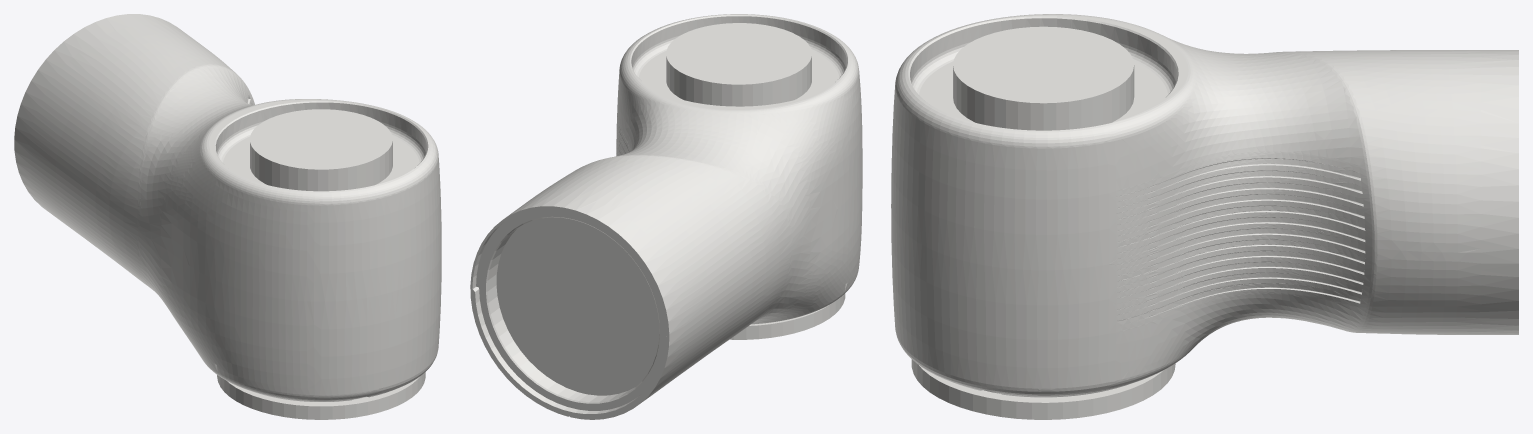
The model's file is AR5_5_08R_W4C4A6_link3_vis.obj.
3 views of the same model, side by side, from view 1: azimuth 30°, elevation 25°; view 2: azimuth 150°, elevation 25°; view 3: azimuth 270°, elevation 25° (orthographic). The views are drawn at different scales.
Parts seen in each view (by area): view 1: AR5_5_08R_W4C4A6_link3; view 2: AR5_5_08R_W4C4A6_link3; view 3: AR5_5_08R_W4C4A6_link3.
Part boxes in pixels (x1,y1,x2,y2): AR5_5_08R_W4C4A6_link3: (14,14,441,419); AR5_5_08R_W4C4A6_link3: (470,14,862,419); AR5_5_08R_W4C4A6_link3: (891,14,1518,419).
Size of the model in its own units: 0.1102 by 0.1116 by 0.2113.
1 material, 1 textured.
